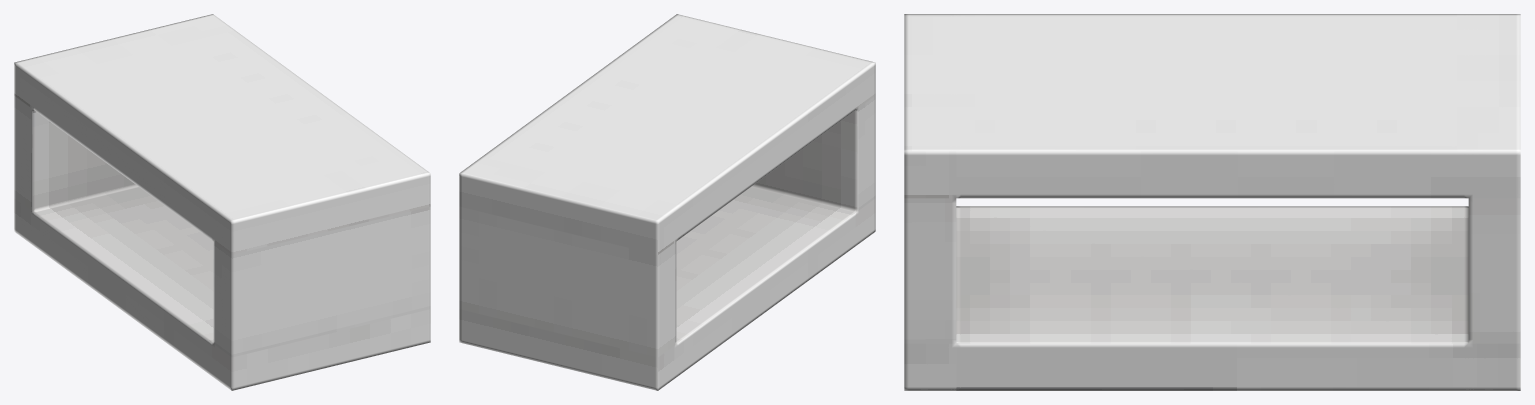
File: a_com_building_b01_groomingtable01.gltf
The picture shows the model from 3 angles, left to right: view 1: azimuth 30°, elevation 25°; view 2: azimuth 150°, elevation 25°; view 3: azimuth 270°, elevation 25°; orthographic projection. The views are drawn at different scales.
Visible parts, largest first — view 1: a_com_building_b01_groomingtable01_mesh_shape:a_com_building; view 2: a_com_building_b01_groomingtable01_mesh_shape:a_com_building; view 3: a_com_building_b01_groomingtable01_mesh_shape:a_com_building.
Part boxes in pixels (<box>): a_com_building_b01_groomingtable01_mesh_shape:a_com_building: <box>14,14,430,390</box>; a_com_building_b01_groomingtable01_mesh_shape:a_com_building: <box>459,14,875,390</box>; a_com_building_b01_groomingtable01_mesh_shape:a_com_building: <box>904,14,1520,390</box>.
Size of the model in its own units: 0.7987 by 0.6504 by 1.52.
Materials: 1 (1 with a texture image).
